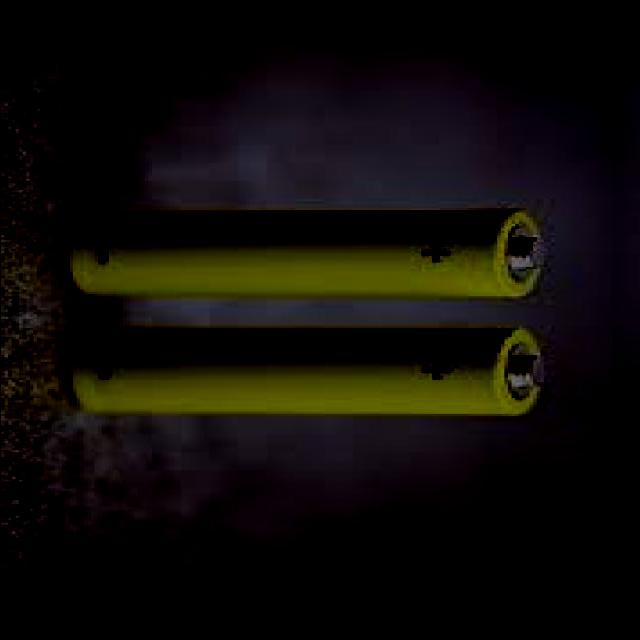AAA: (60, 207, 552, 300), (62, 327, 552, 418)
